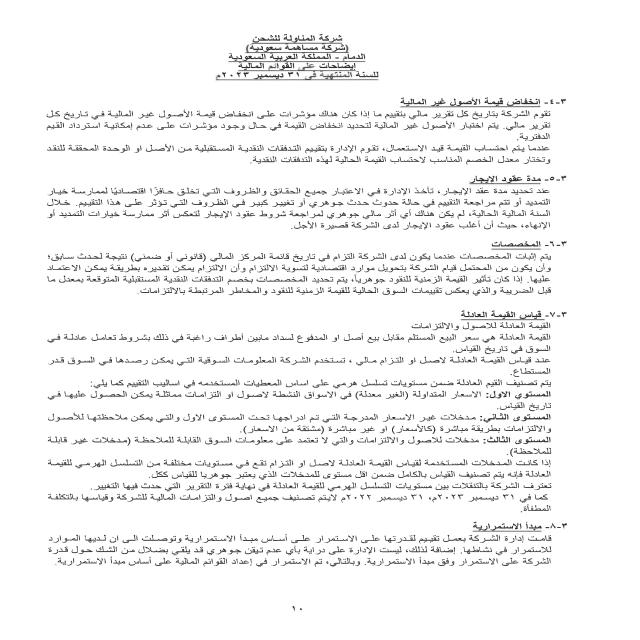notes: (230, 61, 364, 71)
text: (23, 91, 583, 580)
